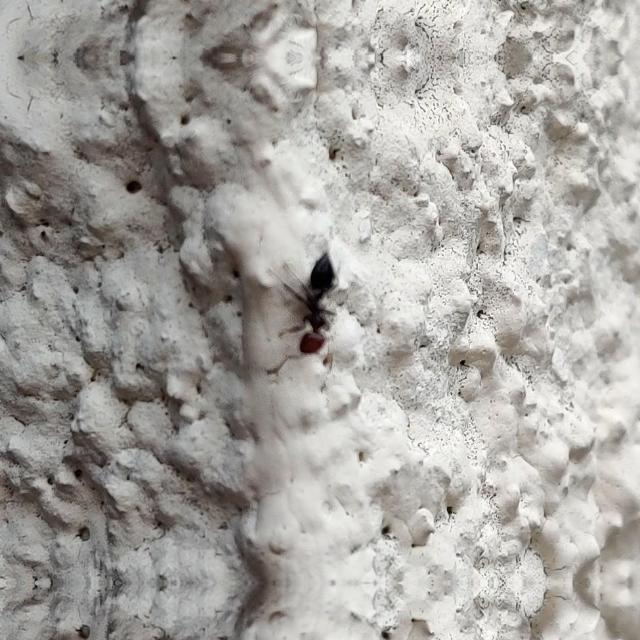Crematogaster: (292, 242, 341, 364)
